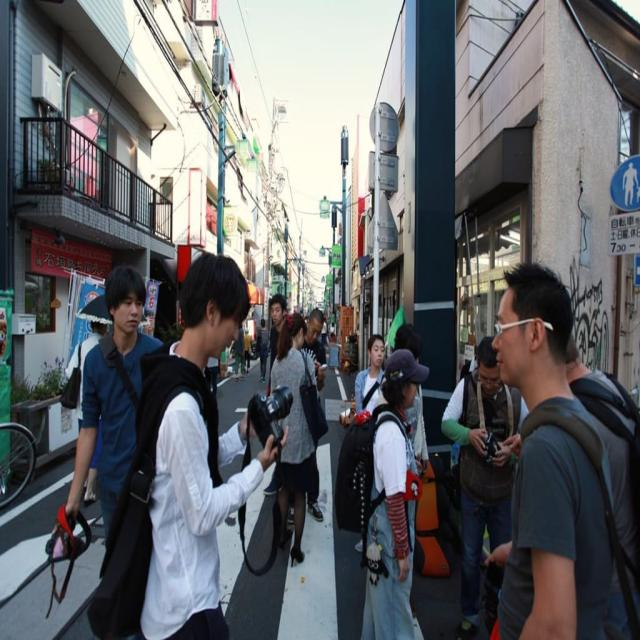body: (134, 250, 289, 640), (489, 253, 639, 639), (489, 308, 616, 640), (51, 264, 166, 557), (440, 335, 530, 639), (356, 344, 432, 640), (286, 307, 329, 522), (64, 318, 110, 508), (352, 333, 387, 553), (392, 323, 431, 475), (265, 292, 288, 398), (297, 307, 341, 344), (256, 315, 271, 385), (203, 354, 220, 400), (233, 321, 246, 379), (243, 327, 253, 368)
